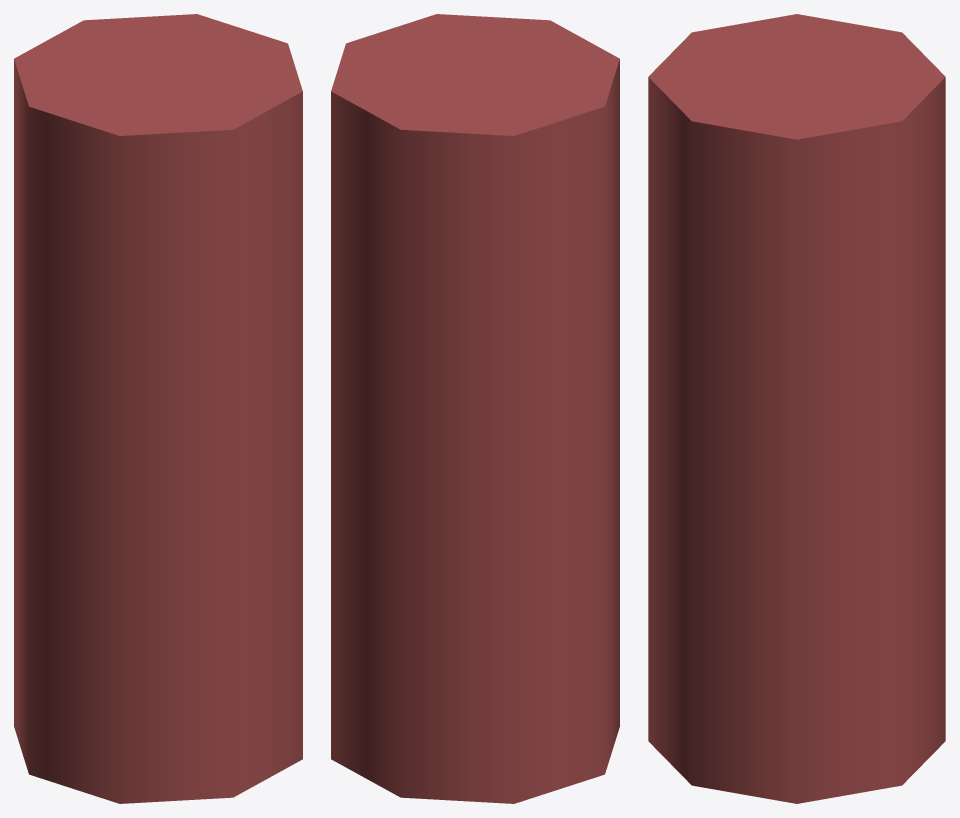
The model's file is Char_PG_Syringe_Poison.FBX.
3 renders of one model, left to right at view 1: azimuth 30°, elevation 25°; view 2: azimuth 150°, elevation 25°; view 3: azimuth 270°, elevation 25°, orthographic.
Visible parts, largest first — view 1: Cylinder010; view 2: Cylinder010; view 3: Cylinder010.
Boxes of the visible parts, x1,y1,x2,y2 form: Cylinder010: (14,14,302,803); Cylinder010: (331,14,619,803); Cylinder010: (648,14,945,803).
Bounding box in the file's own units: 20.29 × 50 × 20.29.
